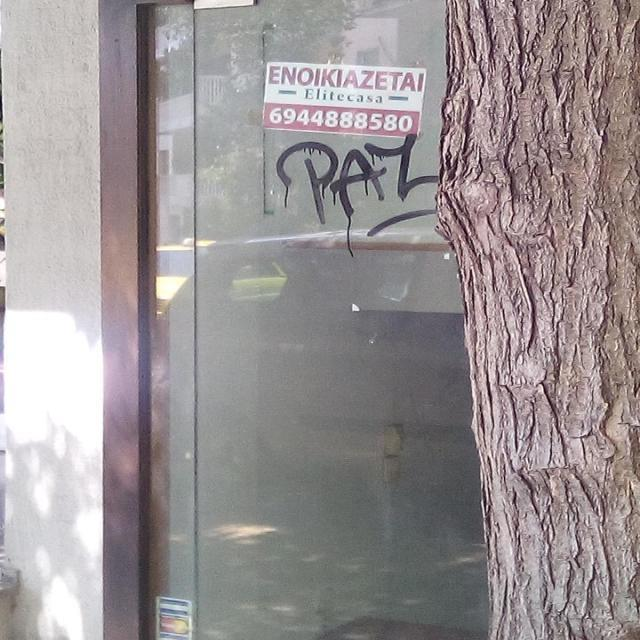nonspitting: (274, 133, 438, 236)
